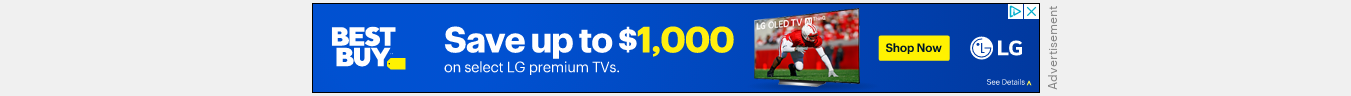fake_button: (872, 27, 959, 75)
